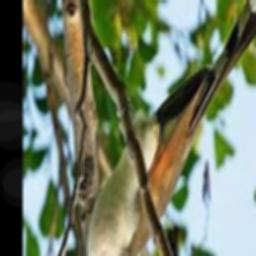Cuckoo: (74, 0, 256, 256)
